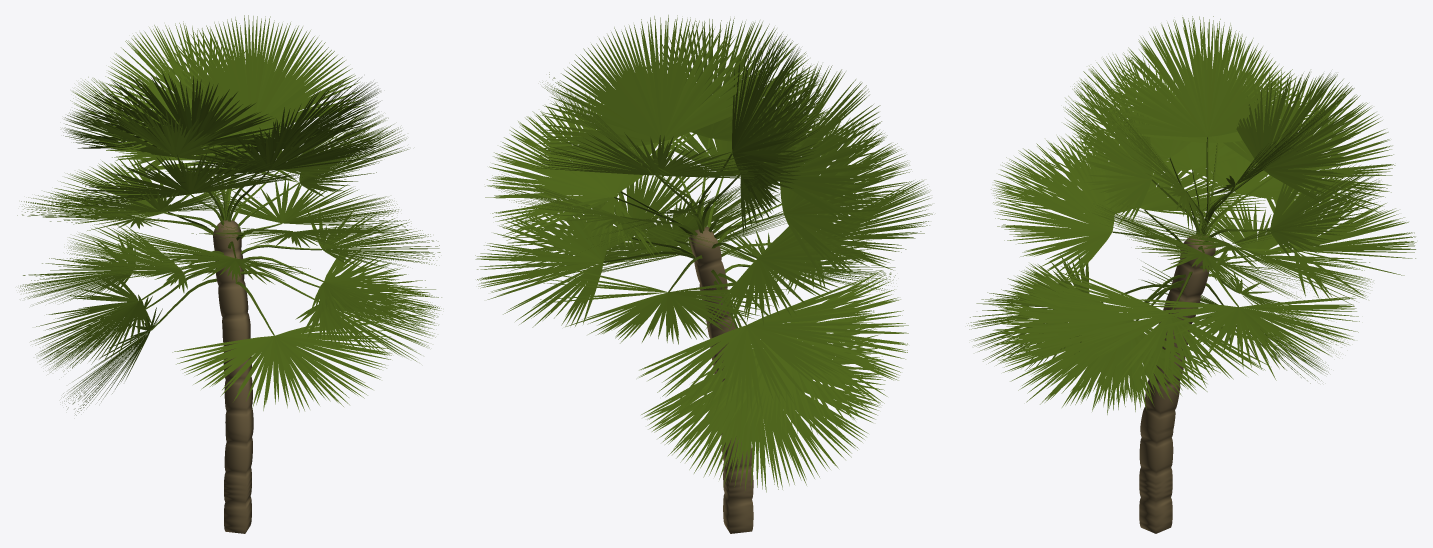
The model's file is fanPalm.obj.
The picture shows the model from 3 angles, left to right: view 1: azimuth 30°, elevation 25°; view 2: azimuth 150°, elevation 25°; view 3: azimuth 270°, elevation 25°; orthographic projection. The views are drawn at different scales.
Parts seen in each view (by area): view 1: leaves_3, leaves2_4, trunk_1, stems_1_2; view 2: leaves_3, leaves2_4, trunk_1, stems_1_2; view 3: leaves_3, leaves2_4, trunk_1, stems_1_2.
Boxes of the visible parts, x1,y1,x2,y2 form: leaves_3: (19, 16, 441, 415); leaves2_4: (17, 15, 441, 410); trunk_1: (213, 220, 253, 533); stems_1_2: (134, 130, 323, 335); leaves_3: (475, 16, 931, 492); leaves2_4: (475, 15, 932, 487); trunk_1: (689, 227, 753, 533); stems_1_2: (603, 138, 783, 328); leaves_3: (968, 16, 1416, 411); leaves2_4: (967, 16, 1415, 414); trunk_1: (1139, 234, 1215, 533); stems_1_2: (1101, 137, 1294, 320).
Size of the model in its own units: 246 by 300 by 257.
